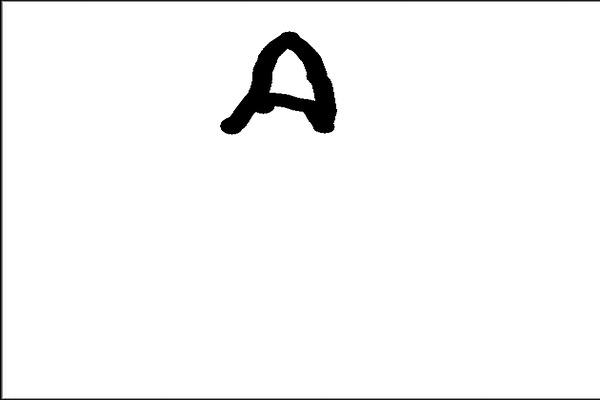A: (216, 26, 346, 146)
